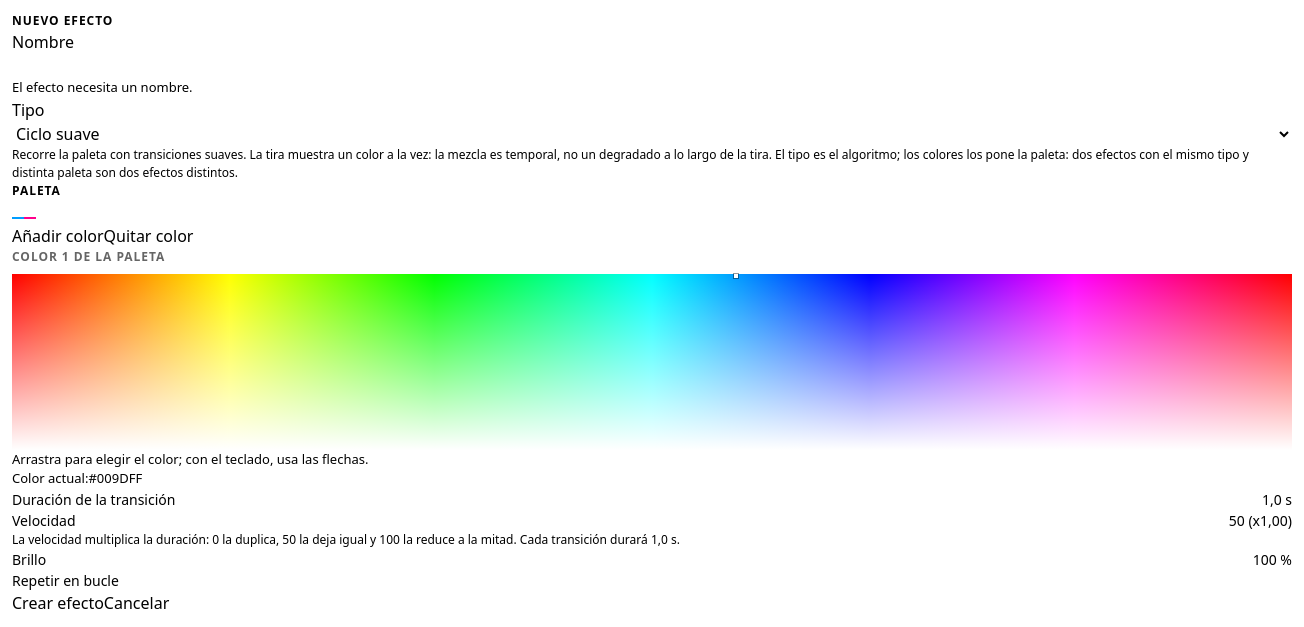
Test case: editor de efectos › el tipo es el algoritmo y la paleta se adapta a lo que admite
Select "Fijo" in the dropdown labelled "Tipo": (652, 134) [12,122,1292,146]
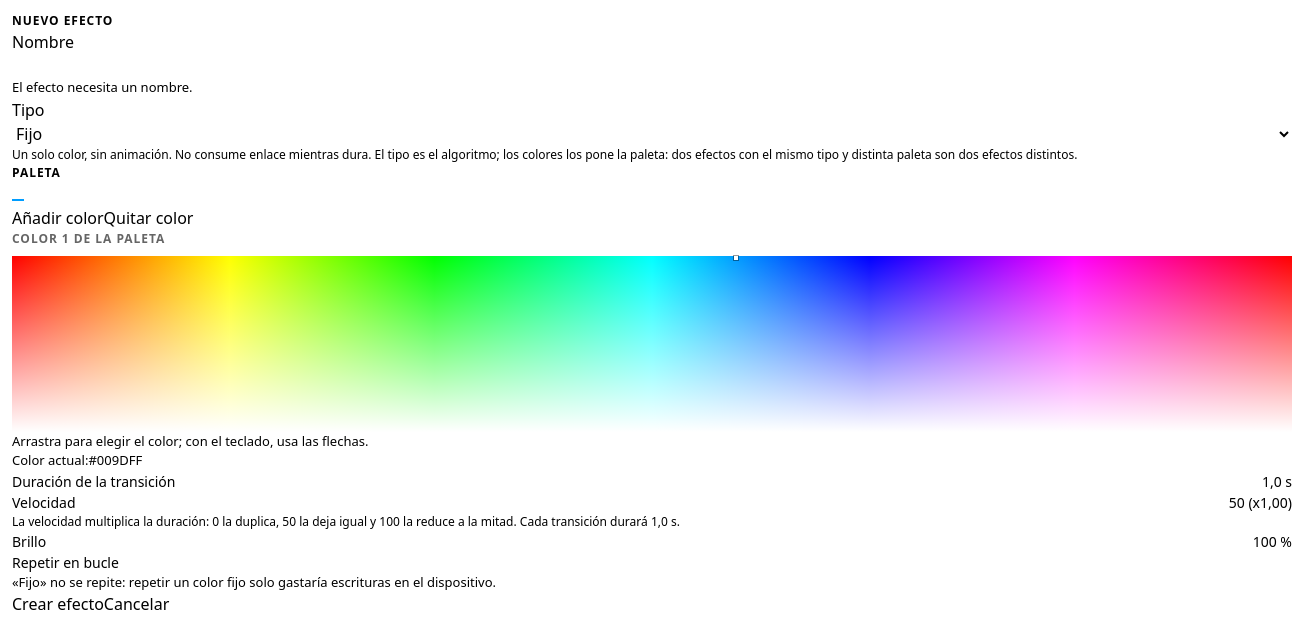
Expected: the button "Añadir color" is disabled, [12,206,104,230]
